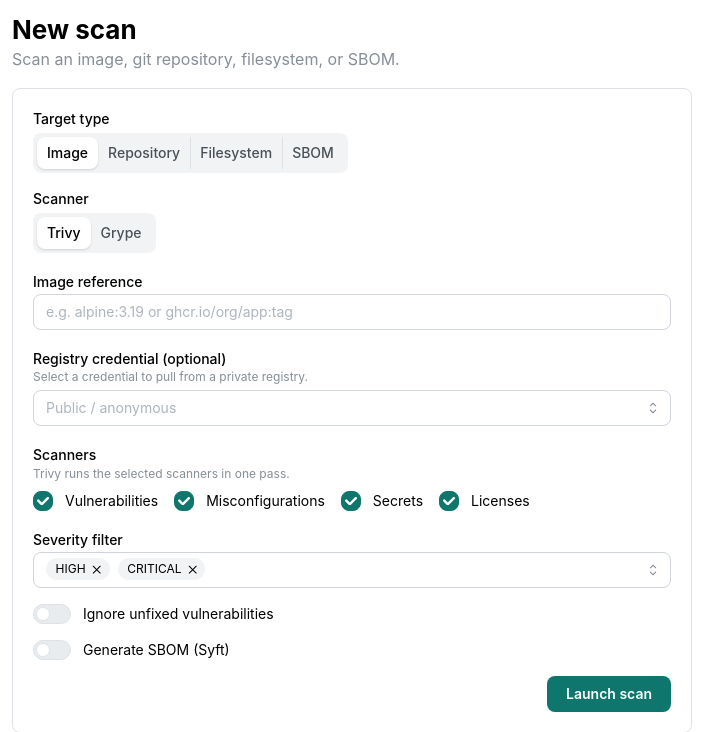
Test case: NewScanPage — scanner clamped to the target type › never commits a render in which no allowed scanner is selected
Click the radio button labelled "Filesystem": (236, 153) left=200, top=144, right=272, bottom=161
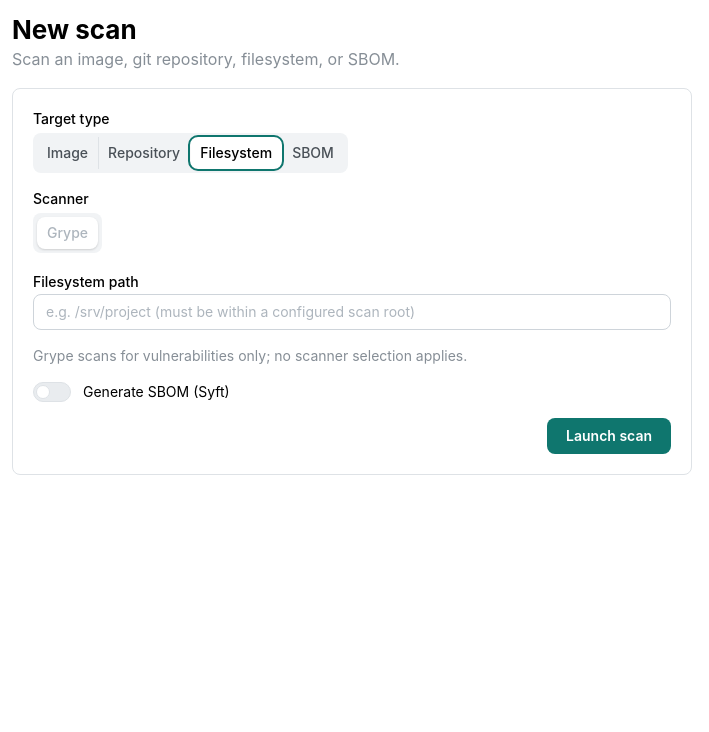
Now the radio button labelled "Grype" is checked, box left=47, top=224, right=88, bottom=241
